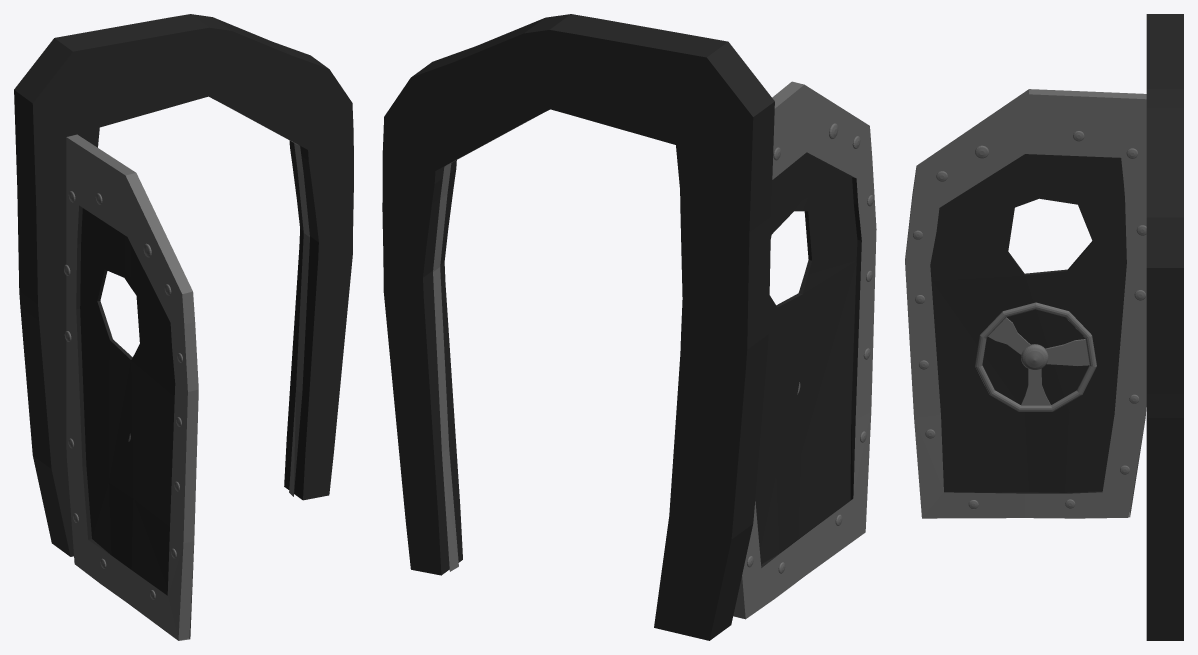
Rendered from neighbor_door_open.obj.
The picture shows the model from 3 angles, left to right: view 1: azimuth 30°, elevation 25°; view 2: azimuth 150°, elevation 25°; view 3: azimuth 270°, elevation 25°; orthographic projection. The views are drawn at different scales.
Parts seen in each view (by area): view 1: Door_door_Plane.004, Door_door_Plane.002; view 2: Door_door_Plane.004, Door_door_Plane.002; view 3: Door_door_Plane.002, Door_door_Plane.004, Door_door_Plane.001.
Boxes of the visible parts, <box> form: Door_door_Plane.004: <box>14,14,353,556</box>; Door_door_Plane.002: <box>64,134,198,640</box>; Door_door_Plane.004: <box>382,14,774,640</box>; Door_door_Plane.002: <box>733,81,876,619</box>; Door_door_Plane.002: <box>905,89,1146,518</box>; Door_door_Plane.004: <box>1146,14,1183,640</box>; Door_door_Plane.001: <box>975,302,1096,411</box>.
Size of the model in its own units: 2.47 by 3.72 by 1.87.
